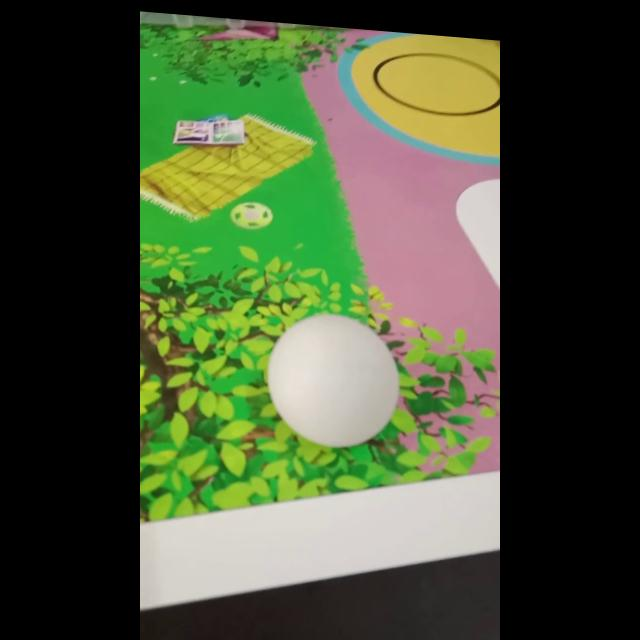white ball: (266, 308, 400, 454)
